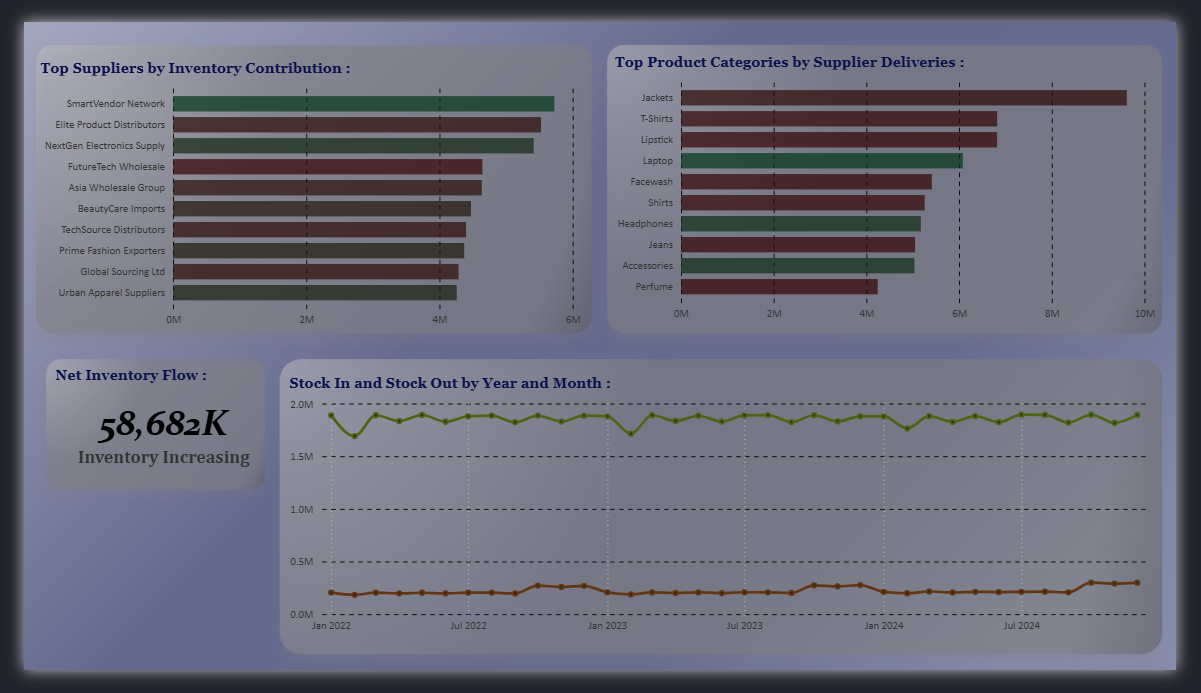

What the dashboard file says about the page in this screenshot:
{"tool":"powerbi","page":{"name":"Supply Chain & Inventory Flow Intelligence :-","canvas":[1280,720],"ordinal":4},"visuals":[{"type":"actionButton","box":[13.8,22.8,79.7,79.7],"z":0,"group":"g3"},{"type":"clusteredBarChart","title":"Top Suppliers by Inventory Contribution :","fields":{"Category":["dim_suppliers.supplier_name"],"Y":["MyMeasure.Stock In"]},"box":[14,42,610,305],"z":0,"group":"g2"},{"type":"group","id":"g1","title":"KPI","box":[29.3,383,250,130],"z":0},{"type":"card","title":"Net Inventory Flow :","fields":{"Values":["MyMeasure.Net Inventory Flow"]},"box":[29.3,383,250,100],"z":0,"group":"g1"},{"type":"actionButton","box":[14.1,619.7,79.7,79.7],"z":0,"group":"g4"},{"type":"group","id":"g2","title":"All Visuals ","box":[14,35.3,1248.3,651.7],"z":1000},{"type":"actionButton","box":[14.3,135,79.7,79.7],"z":1000,"group":"g3"},{"type":"lineChart","title":"Stock In and Stock Out by Year and Month :","fields":{"Category":["dim_date.month_year.Variation.Date Hierarchy.Year","dim_date.month_year.Variation.Date Hierarchy.Month"],"Y":["MyMeasure.Stock In","MyMeasure.Stock Out"]},"box":[290.7,392,971.7,295],"z":1000,"group":"g2"},{"type":"card","fields":{"Values":["MyMeasure.Inventory Balance Status"]},"box":[29.3,453,250,60],"z":1000,"group":"g1"},{"type":"actionButton","box":[108.5,619.7,79.7,79.7],"z":1000,"group":"g4"},{"type":"group","id":"g3","title":"Filter + Home Button","box":[13.8,22.8,80.2,191.9],"z":2000,"group":"g4"},{"type":"group","id":"g4","title":"All Buttons ","box":[13.8,22.8,174.4,676.6],"z":2000},{"type":"clusteredBarChart","title":"Top Product Categories by Supplier Deliveries :","fields":{"Category":["dim_products.sub_category"],"Y":["MyMeasure.Stock In"]},"box":[652.3,35.3,610,305],"z":2000,"group":"g2"}]}

Visuals, with their boxes in screenshot pixels (x1, y1, x2, y2), scaled from the page's 1280x720 canvas onto the 1201x693 screenshot:
actionButton: detection(13, 22, 88, 99)
"Top Suppliers by Inventory Contribution :" clusteredBarChart: detection(13, 40, 585, 334)
"KPI" group: detection(27, 369, 262, 494)
"Net Inventory Flow :" card: detection(27, 369, 262, 465)
actionButton: detection(13, 596, 88, 673)
"All Visuals " group: detection(13, 34, 1184, 661)
actionButton: detection(13, 130, 88, 207)
"Stock In and Stock Out by Year and Month :" lineChart: detection(273, 377, 1184, 661)
card - MyMeasure.Inventory Balance Status: detection(27, 436, 262, 494)
actionButton: detection(102, 596, 177, 673)
"Filter + Home Button" group: detection(13, 22, 88, 207)
"All Buttons " group: detection(13, 22, 177, 673)
"Top Product Categories by Supplier Deliveries :" clusteredBarChart: detection(612, 34, 1184, 328)
